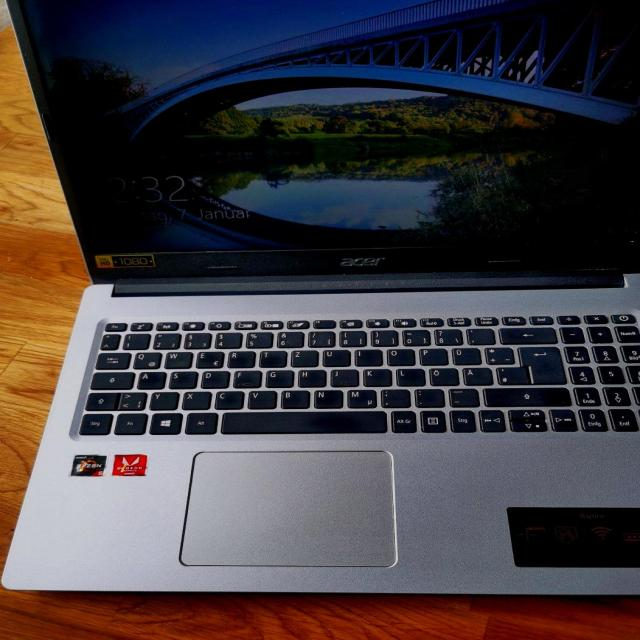0: (400, 327, 428, 345)
1: (121, 332, 149, 349)
2: (151, 331, 179, 348)
3: (181, 330, 210, 348)
4: (213, 330, 240, 347)
5: (243, 330, 271, 347)
6: (275, 330, 303, 346)
7: (306, 329, 333, 346)
8: (337, 329, 365, 346)
9: (368, 328, 397, 345)
a: (135, 369, 164, 388)
accent: (465, 327, 494, 344)
ae: (460, 365, 491, 384)
alt-left: (183, 410, 216, 433)
altgr-right: (388, 408, 414, 431)
b: (279, 388, 309, 408)
c: (212, 389, 242, 408)
caret: (98, 332, 118, 348)
comma: (378, 387, 409, 407)
d: (199, 368, 227, 387)
del: (496, 326, 554, 343)
e: (194, 349, 223, 367)
enter: (516, 344, 564, 383)
f: (231, 368, 260, 387)
g: (263, 368, 291, 386)
h: (295, 367, 325, 386)
hash: (495, 365, 527, 383)
i: (352, 347, 381, 365)
j: (328, 367, 357, 386)
k: (361, 367, 391, 385)
keyboard: (65, 309, 640, 440)
l: (394, 366, 424, 385)
less: (117, 390, 146, 408)
m: (345, 388, 375, 407)
minus: (446, 387, 477, 406)
n: (311, 388, 342, 407)
o: (384, 347, 414, 364)
oe: (427, 366, 458, 384)
p: (418, 347, 447, 365)
plus: (482, 345, 513, 363)
point: (413, 387, 444, 406)
q: (131, 350, 159, 368)
r: (225, 349, 254, 367)
s: (166, 369, 196, 387)
shift-left: (83, 390, 116, 409)
shift-lock: (88, 370, 133, 388)
shift-right: (480, 386, 569, 405)
space: (219, 409, 385, 432)
ss: (432, 327, 460, 344)
strg-left: (76, 411, 111, 433)
strg-right: (448, 408, 475, 431)
t: (257, 348, 285, 366)
tab: (92, 350, 129, 368)
u: (320, 348, 349, 365)
ue: (450, 346, 480, 363)
v: (246, 389, 276, 408)
w: (161, 349, 190, 367)
x: (179, 389, 210, 408)
y: (147, 390, 178, 409)
z: (288, 348, 317, 366)
